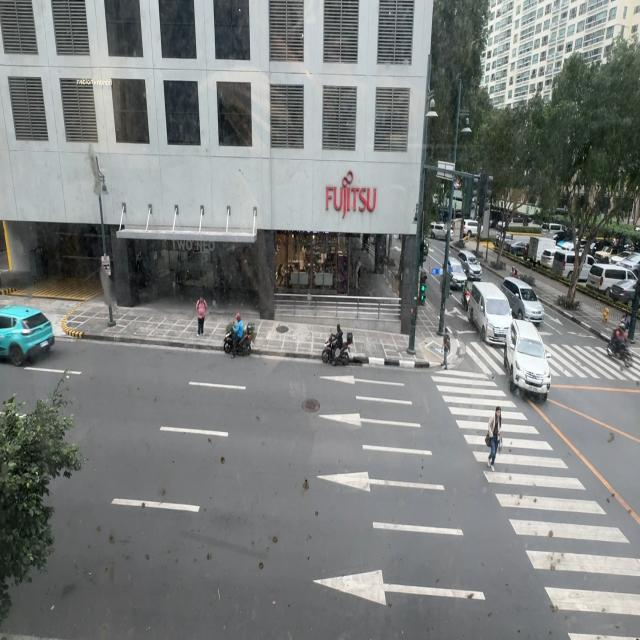crossing: (488, 406, 503, 470), (442, 327, 450, 370)
pedestrain: (196, 294, 208, 338)
